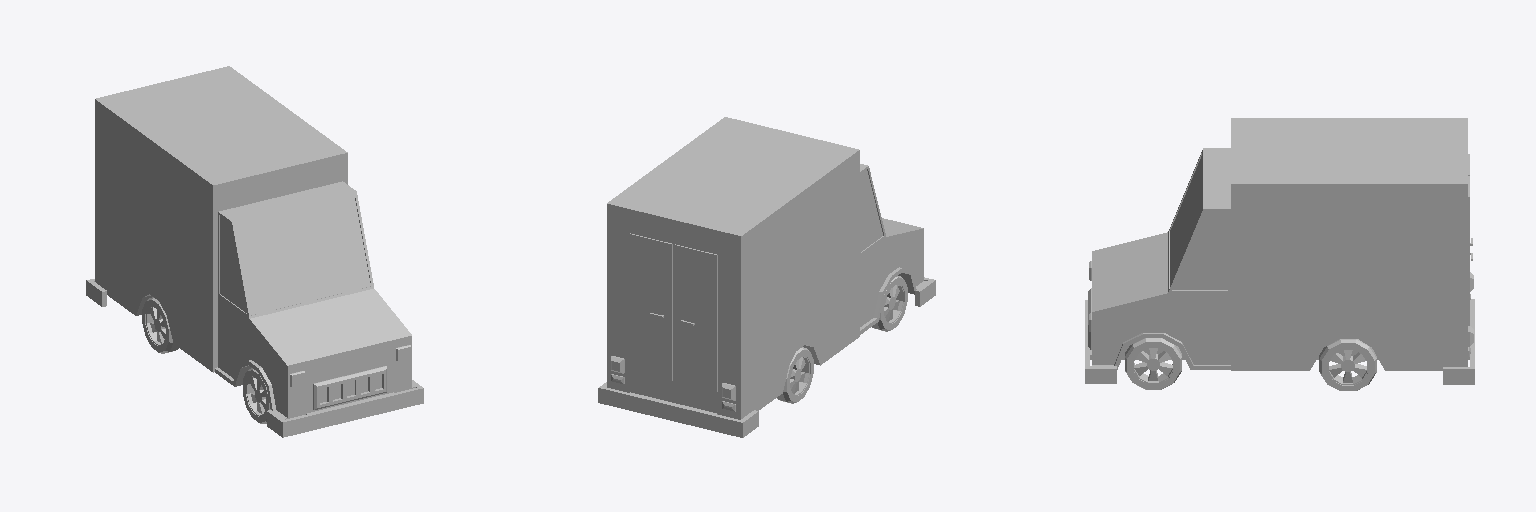
Rendered from truck_04.obj.
3 views of the same model, side by side, from view 1: azimuth 30°, elevation 25°; view 2: azimuth 150°, elevation 25°; view 3: azimuth 270°, elevation 25° (orthographic).
Visible parts, largest first — view 1: truck_Cube; view 2: truck_Cube; view 3: truck_Cube.
Boxes of the visible parts, x1,y1,x2,y2 form: truck_Cube: [86, 66, 423, 437]; truck_Cube: [598, 117, 935, 437]; truck_Cube: [1085, 118, 1474, 390].
Bounding box in the file's own units: 1.51 × 2.1 × 3.54.